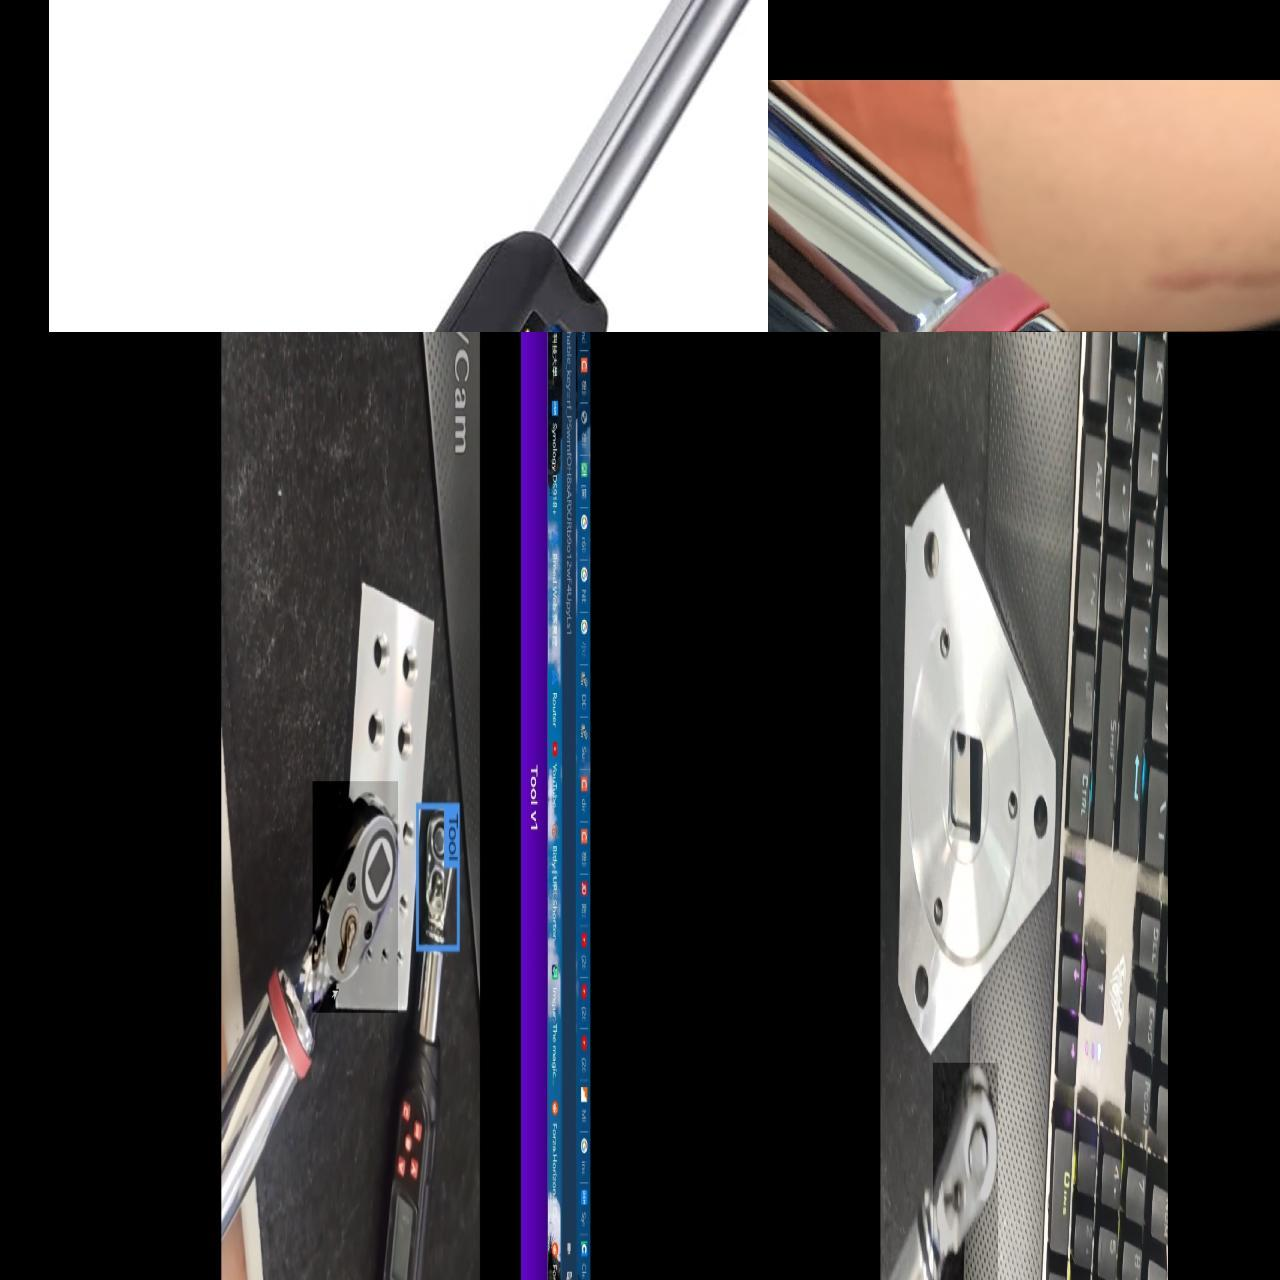Tool: (312, 781, 397, 1013), (933, 1063, 998, 1280)
hole: (912, 955, 939, 1020), (930, 619, 958, 674), (925, 526, 949, 586), (1029, 791, 1055, 845), (369, 633, 397, 675), (362, 707, 386, 757), (396, 644, 420, 692), (390, 729, 415, 765), (928, 894, 952, 926), (1001, 791, 1020, 826)
